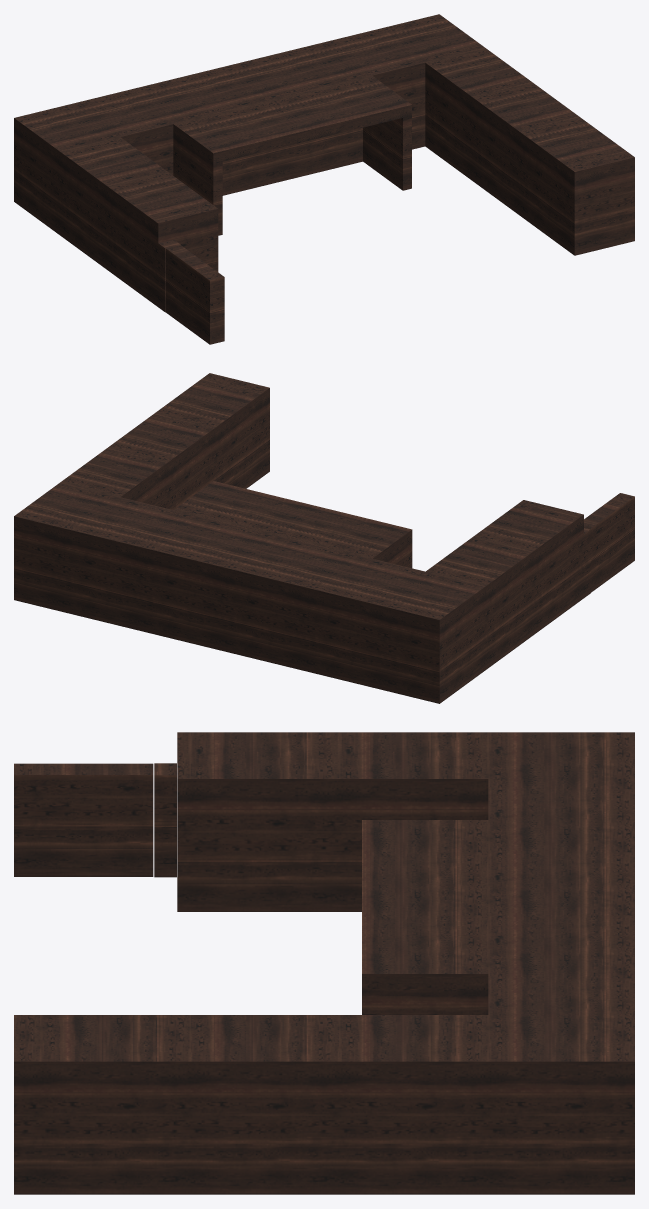
The model's file is Biblioteca_MesaBibliotecaria.fbx.
3 views of the same model, one above another, from view 1: azimuth 30°, elevation 25°; view 2: azimuth 150°, elevation 25°; view 3: azimuth 270°, elevation 25° (orthographic). The views are drawn at different scales.
Parts seen in each view (by area): view 1: Biblioteca_MesaBibliotecaria; view 2: Biblioteca_MesaBibliotecaria; view 3: Biblioteca_MesaBibliotecaria.
Part boxes in pixels (x1,y1,x2,y2): Biblioteca_MesaBibliotecaria: (14, 14, 634, 344); Biblioteca_MesaBibliotecaria: (14, 373, 634, 703); Biblioteca_MesaBibliotecaria: (14, 732, 634, 1194).
Size of the model in its own units: 418 by 78.69 by 333.
